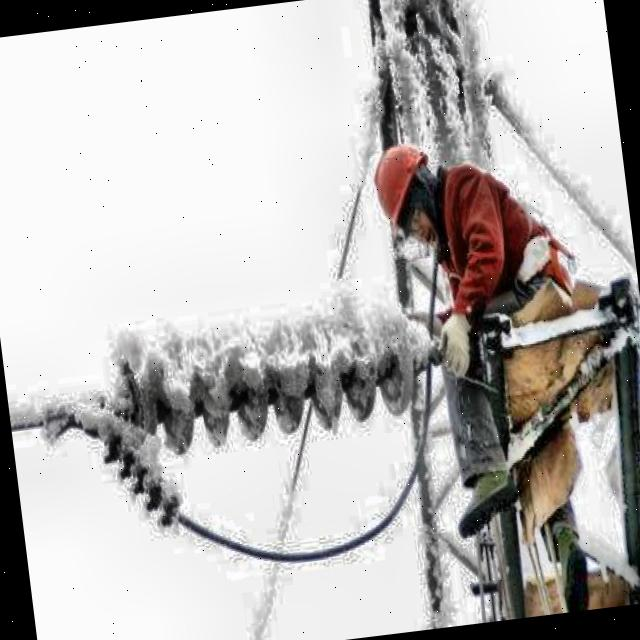helmet: (361, 130, 454, 260)
